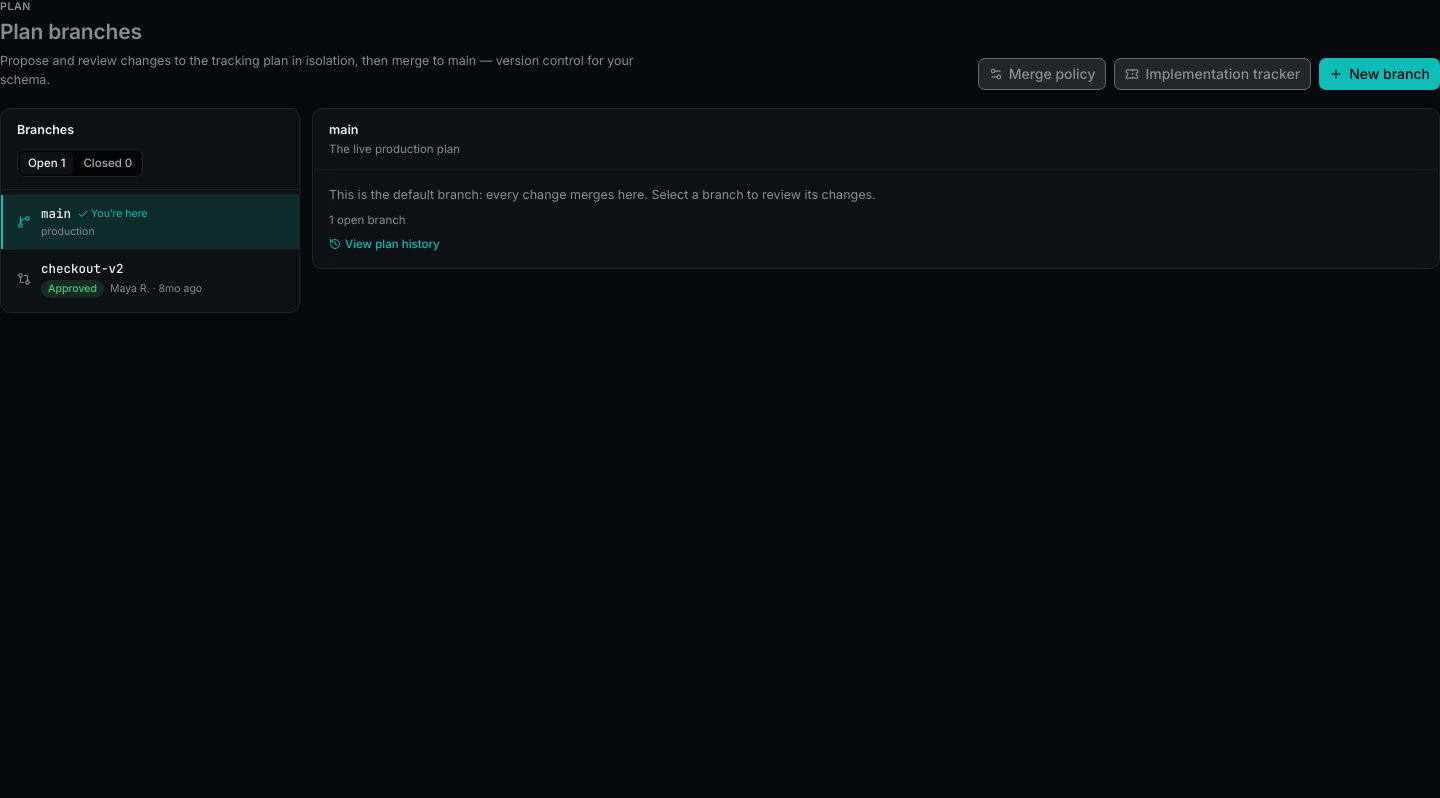
Test case: BranchesTab › expands a change row to reveal the field diff and full state
The width and height of the screenshot is (1440, 798).
Click the text "checkout-v2" at (82,268), box top-left (41, 260), bottom-right (124, 278)
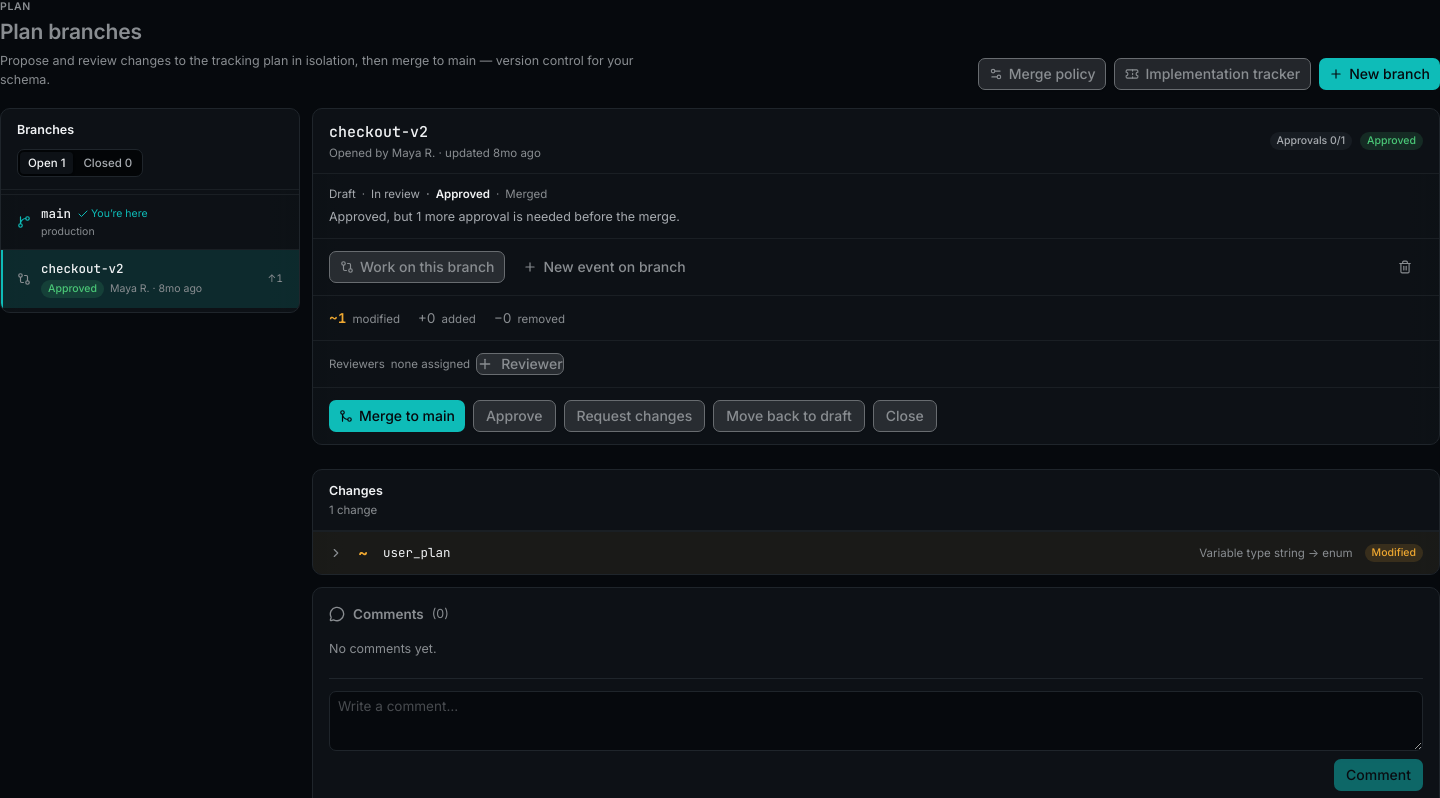
expect the text "Full state" is not shown: met
Click the button "~ user_plan Variable type string → enum Modified" at (417,552), box top-left (313, 532), bottom-right (1439, 574)
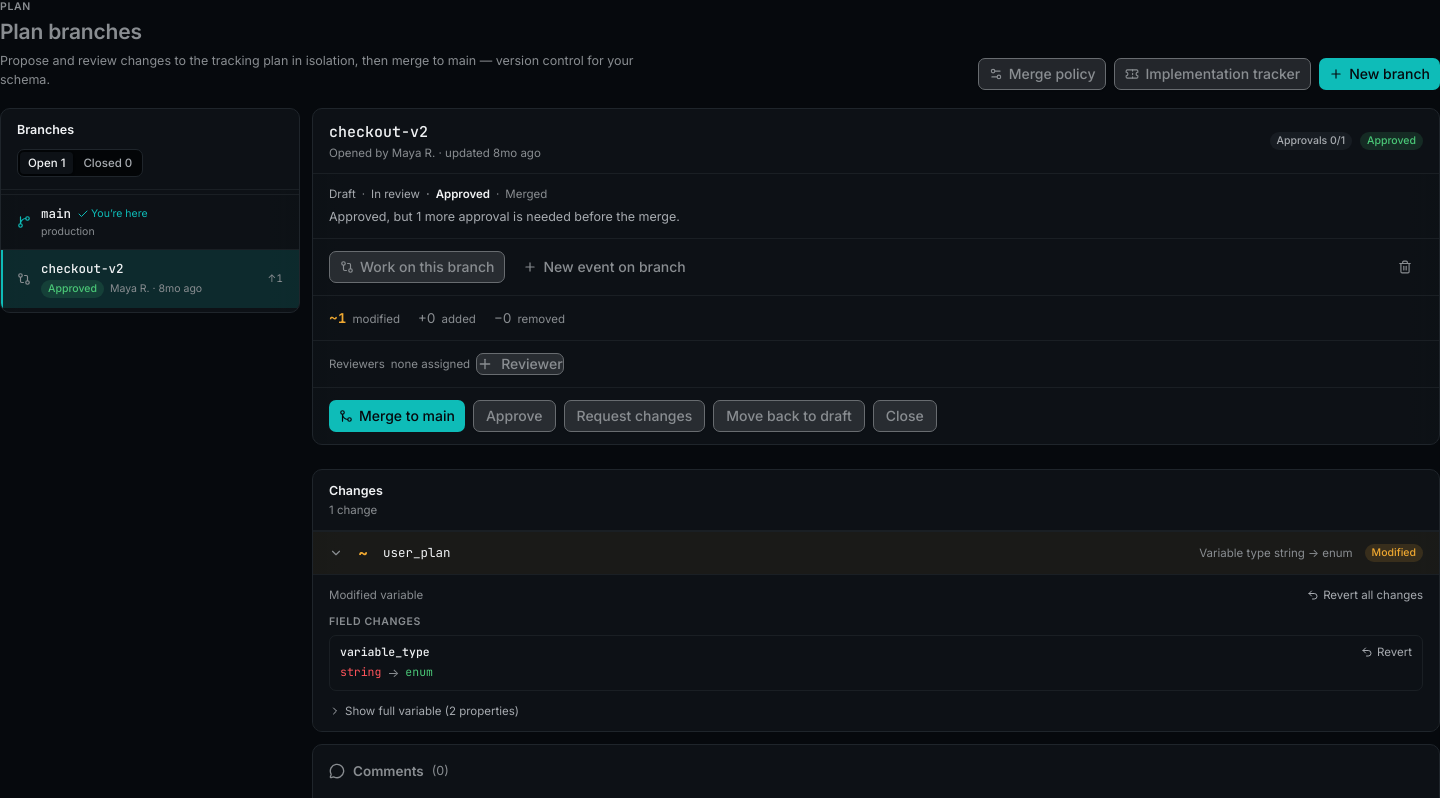
expect the text "Full state" is not shown: met
expect the button "~ user_plan Variable type string → enum Modified" is expanded: met, box top-left (313, 532), bottom-right (1439, 574)
expect the text "Field changes" is shown: met, box top-left (329, 614), bottom-right (421, 628)
Click the button "Show full variable (2 properties)" at (424,710), box top-left (329, 702), bottom-right (519, 718)
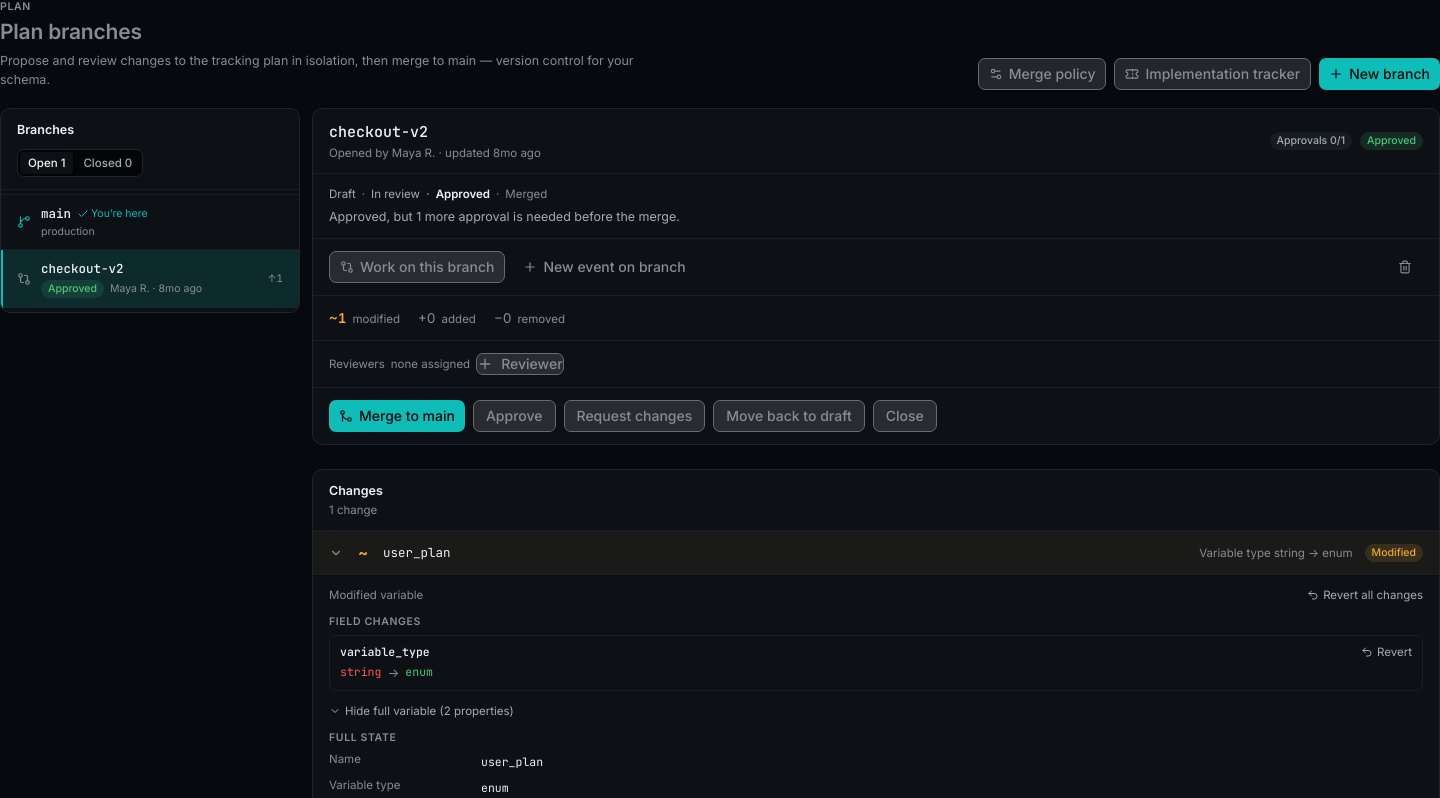
expect the text "string" is shown: met, box top-left (340, 664), bottom-right (381, 680)
expect the text "Full state" is shown: met, box top-left (329, 730), bottom-right (396, 744)
expect the button named "Show full variable (2 properties)" is expanded: met
Click the button named "Show full variable (2 properties)" at (421,710), box top-left (329, 702), bottom-right (514, 718)
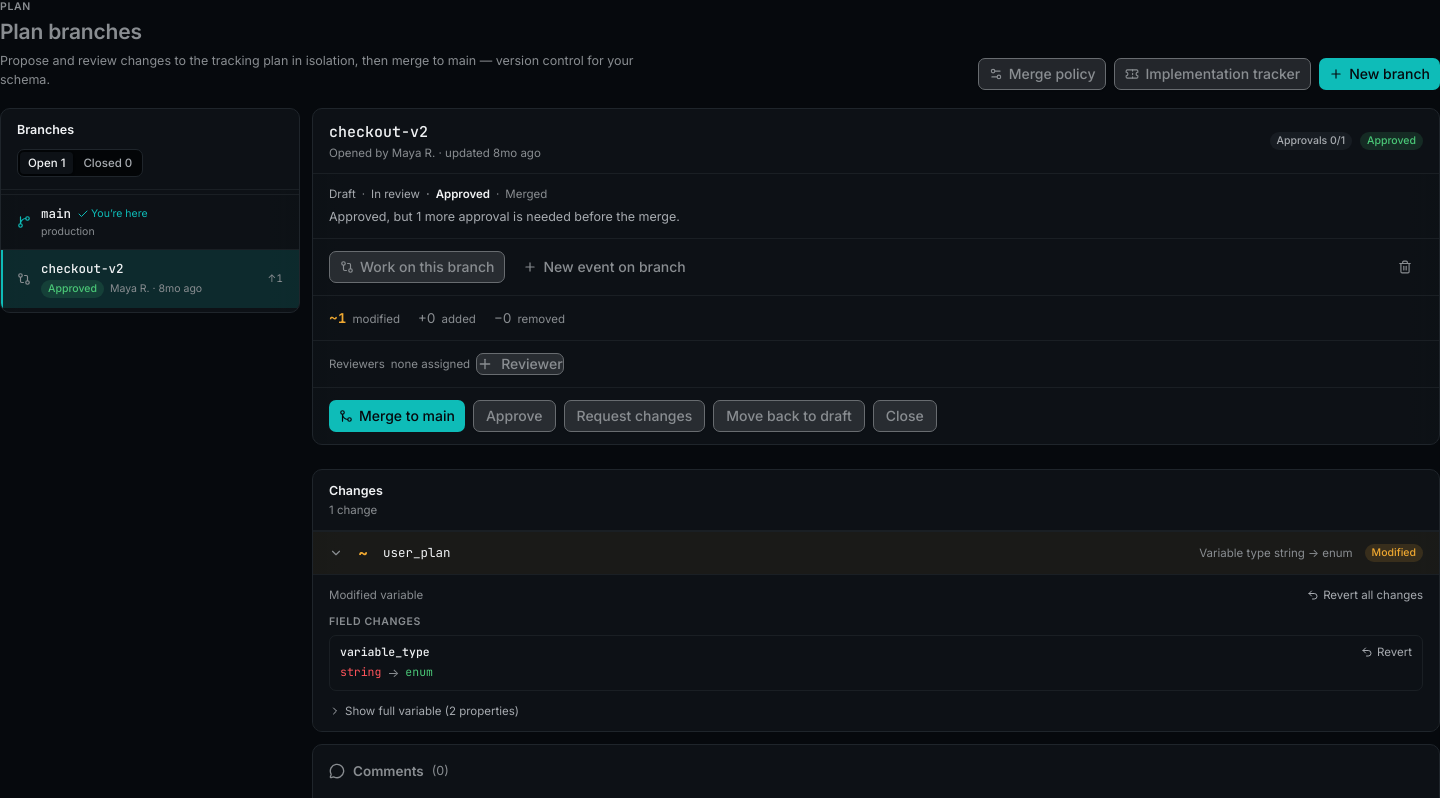
expect the button "Show full variable (2 properties)" is collapsed: met, box top-left (329, 702), bottom-right (519, 718)
expect the text "Full state" is gone: met
// Clicking again collapses the detail.
Click the button "~ user_plan Variable type string → enum Modified" at (417,552), box top-left (313, 532), bottom-right (1439, 574)
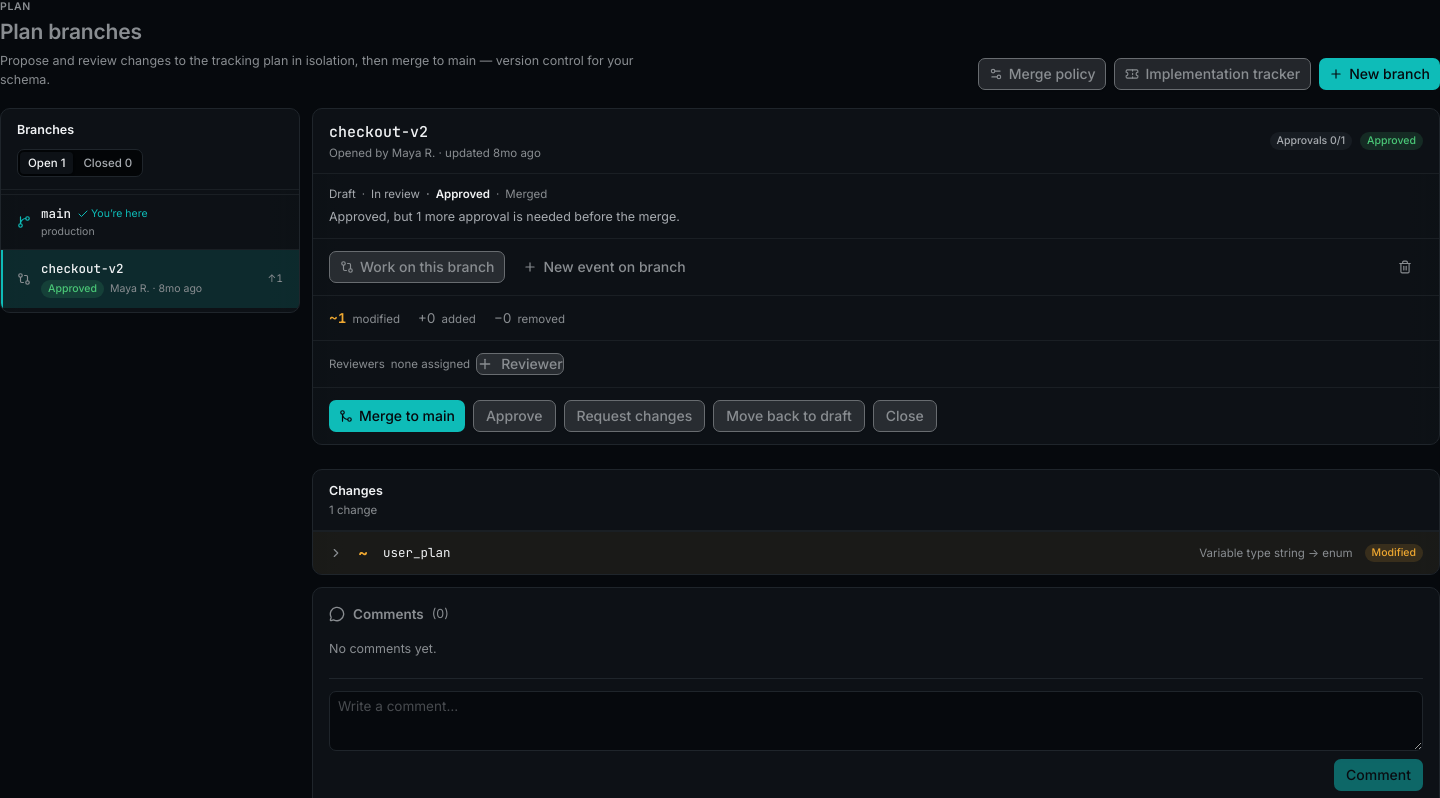
expect the text "Full state" is not shown: met
expect the button "~ user_plan Variable type string → enum Modified" is collapsed: met, box top-left (313, 532), bottom-right (1439, 574)
